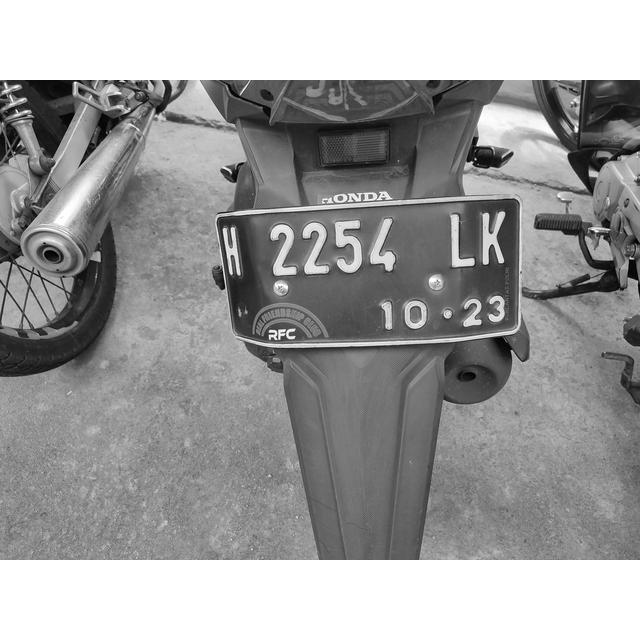license: (221, 208, 513, 335)
